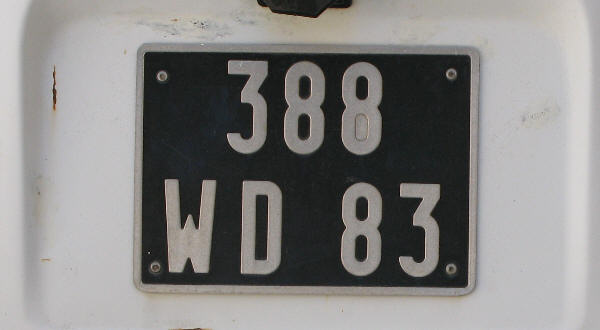license_plate: (133, 42, 480, 296)
